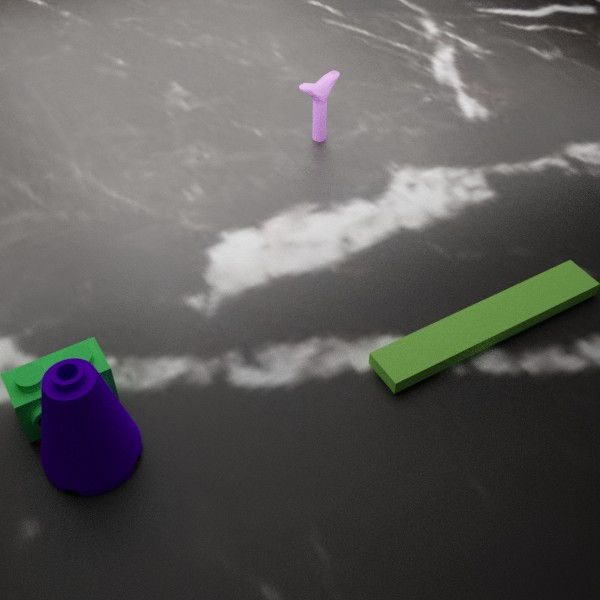lego: (368, 259, 600, 393), (41, 358, 142, 496), (0, 336, 120, 443), (299, 70, 339, 141)
